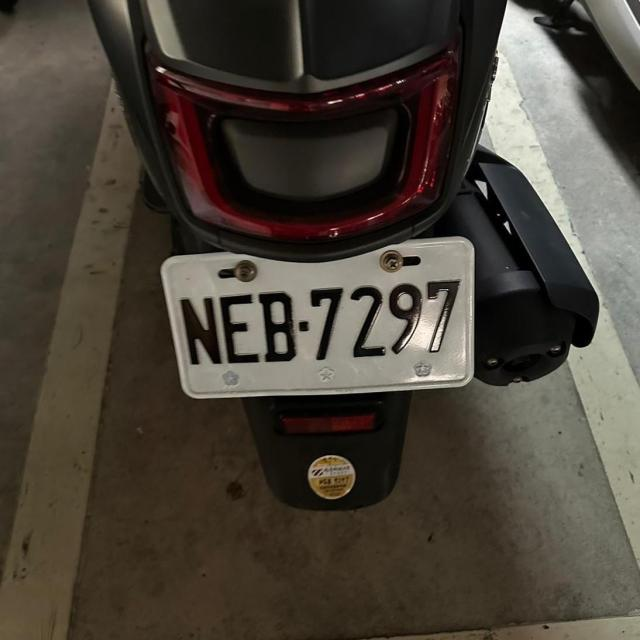W: (156, 235, 482, 403)
